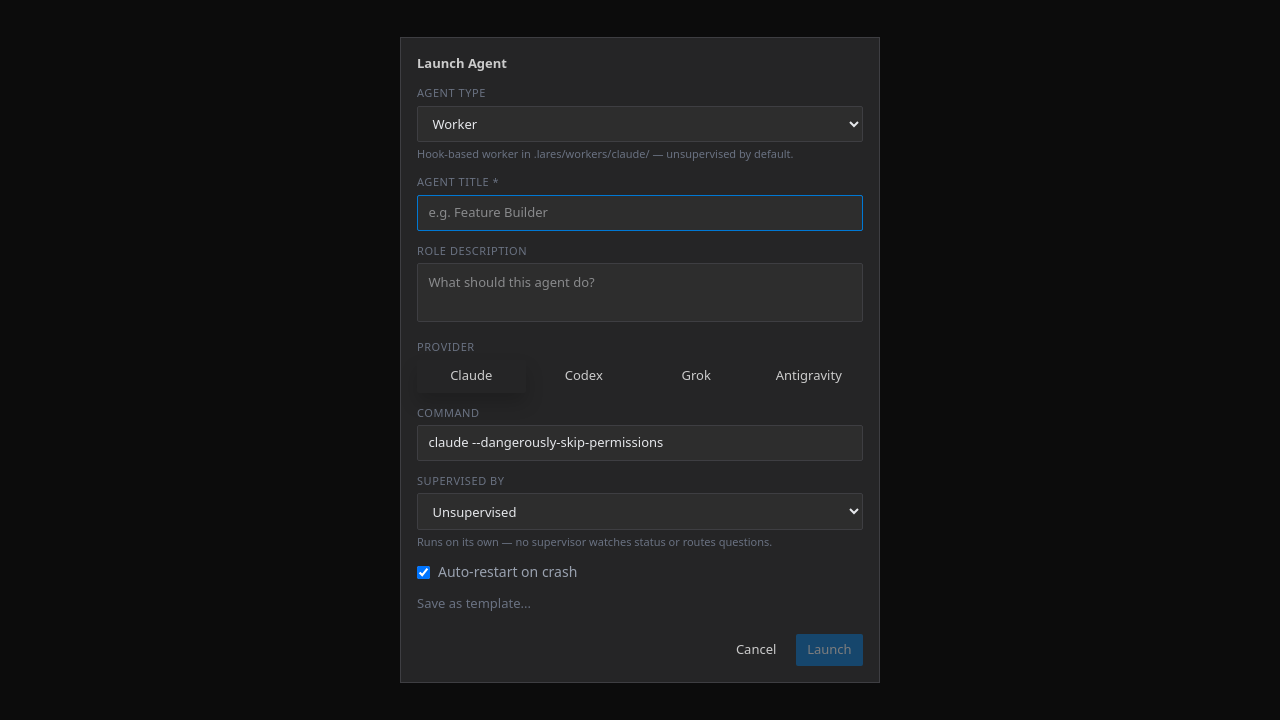
it: AgentLaunchDialog agy enablement › offers Antigravity and selecting it applies the agy command and teal first-run notice
The width and height of the screenshot is (1280, 720).
Step 1. Click the button "Antigravity" → (809, 376), box [754,360,863,393]
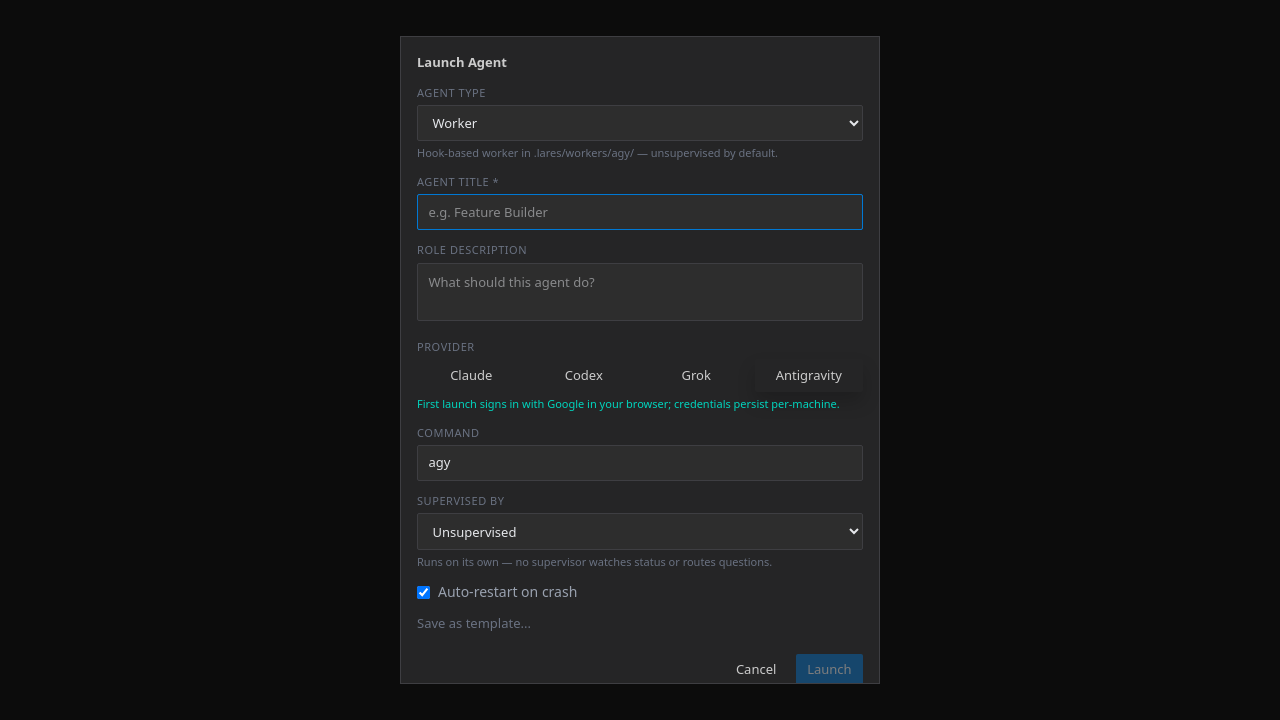
Expected: the text "First launch signs in with Google in your browser; credentials persist per-machine." is shown, [417,396,840,411]
Expected: the 2nd field holds "agy", [417,445,863,481]
